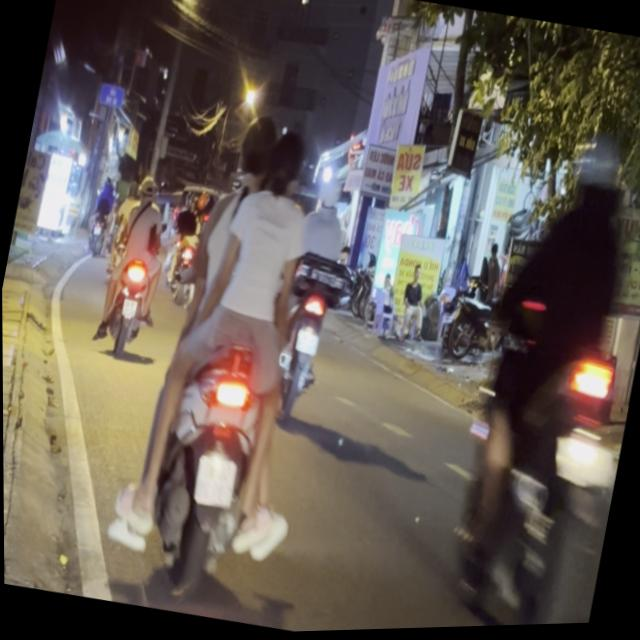helmet: (572, 138, 629, 216)
licenseplate: (93, 91, 366, 628), (420, 119, 640, 630)
motorcyclist: (234, 109, 286, 198), (262, 123, 312, 203)
nohelmet: (552, 436, 619, 494), (191, 453, 240, 510), (294, 329, 321, 357)
